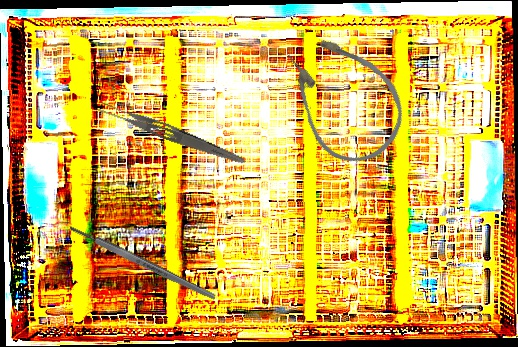Cannula: (266, 13, 422, 180)
Dressing Forceps: (93, 97, 250, 168)
Scalpel Handle: (68, 223, 217, 302)
